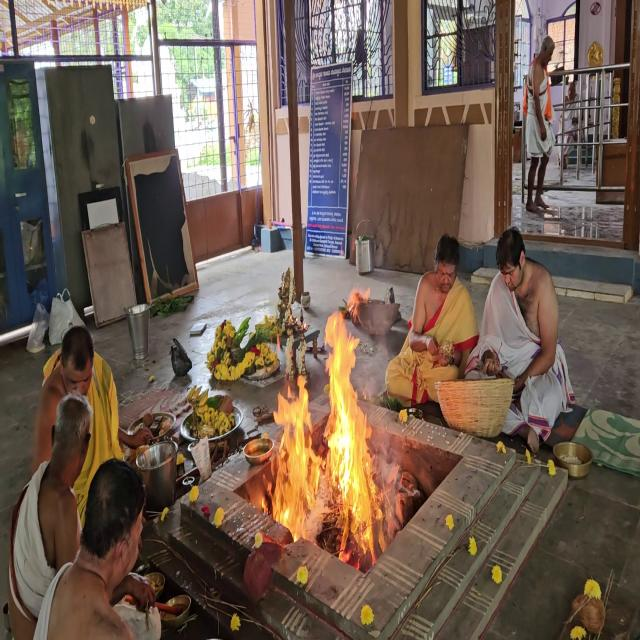fire: (250, 299, 387, 577)
